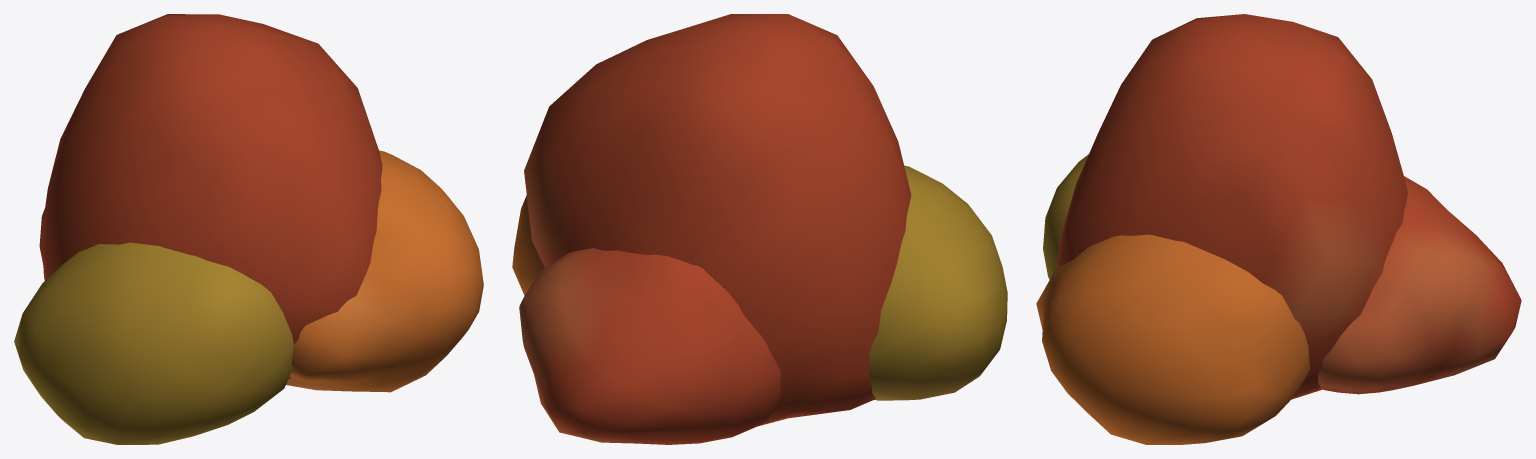
The model's file is decor_buisson_automne_1.glb.
The picture shows the model from 3 angles, left to right: view 1: azimuth 30°, elevation 25°; view 2: azimuth 150°, elevation 25°; view 3: azimuth 270°, elevation 25°; orthographic projection. The views are drawn at different scales.
Visible parts, largest first — view 1: feuillage; view 2: feuillage; view 3: feuillage.
Boxes of the visible parts, x1,y1,x2,y2 form: feuillage: [14, 14, 483, 444]; feuillage: [512, 14, 1007, 444]; feuillage: [1036, 14, 1521, 444].
Bounding box in the file's own units: 0.2846 × 0.2118 × 0.2764.
